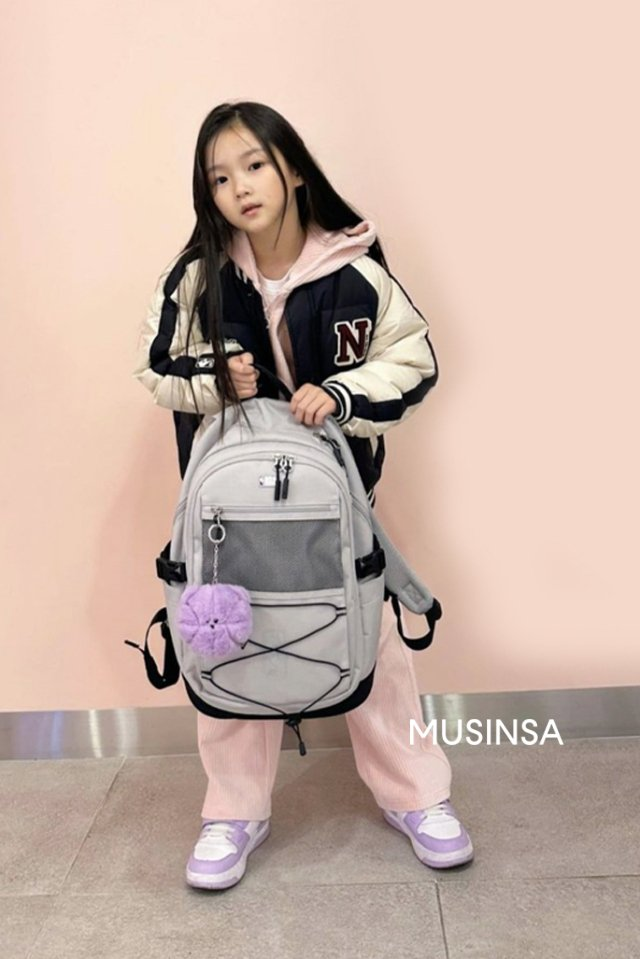Backpack: (149, 403, 440, 724)
Hoodie: (221, 214, 387, 272)
Outer: (139, 230, 443, 522)
Pants: (185, 532, 465, 817)
Shoes: (184, 800, 480, 889)
